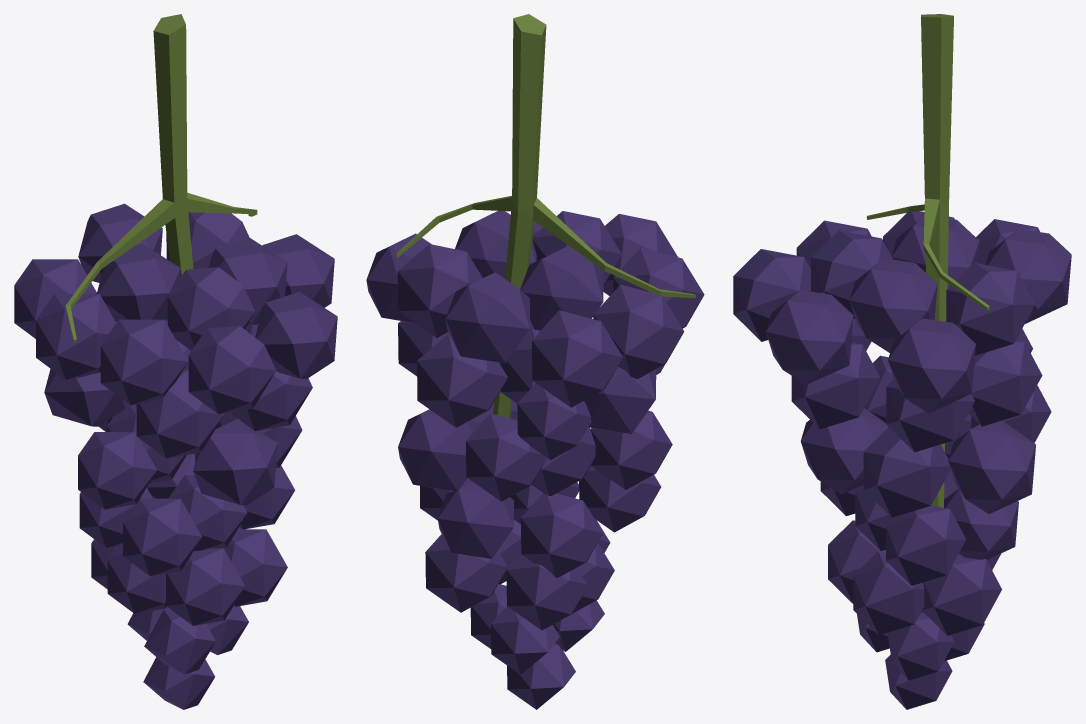
The model's file is SM_Envr_Nature_Farm_Fruit_Grape_01.fbx.
The picture shows the model from 3 angles, left to right: view 1: azimuth 30°, elevation 25°; view 2: azimuth 150°, elevation 25°; view 3: azimuth 270°, elevation 25°; orthographic projection. The views are drawn at different scales.
Parts seen in each view (by area): view 1: SM_Envr_Nature_Farm_Fruit_Grape_01; view 2: SM_Envr_Nature_Farm_Fruit_Grape_01; view 3: SM_Envr_Nature_Farm_Fruit_Grape_01.
Part boxes in pixels (box(x1,y1,x2,y2)): SM_Envr_Nature_Farm_Fruit_Grape_01: box(14, 14, 337, 709); SM_Envr_Nature_Farm_Fruit_Grape_01: box(366, 14, 704, 709); SM_Envr_Nature_Farm_Fruit_Grape_01: box(733, 14, 1071, 709).
Size of the model in its own units: 12.27 by 27.33 by 12.1.
